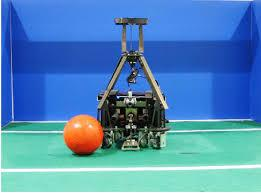robot: (95, 14, 171, 151)
